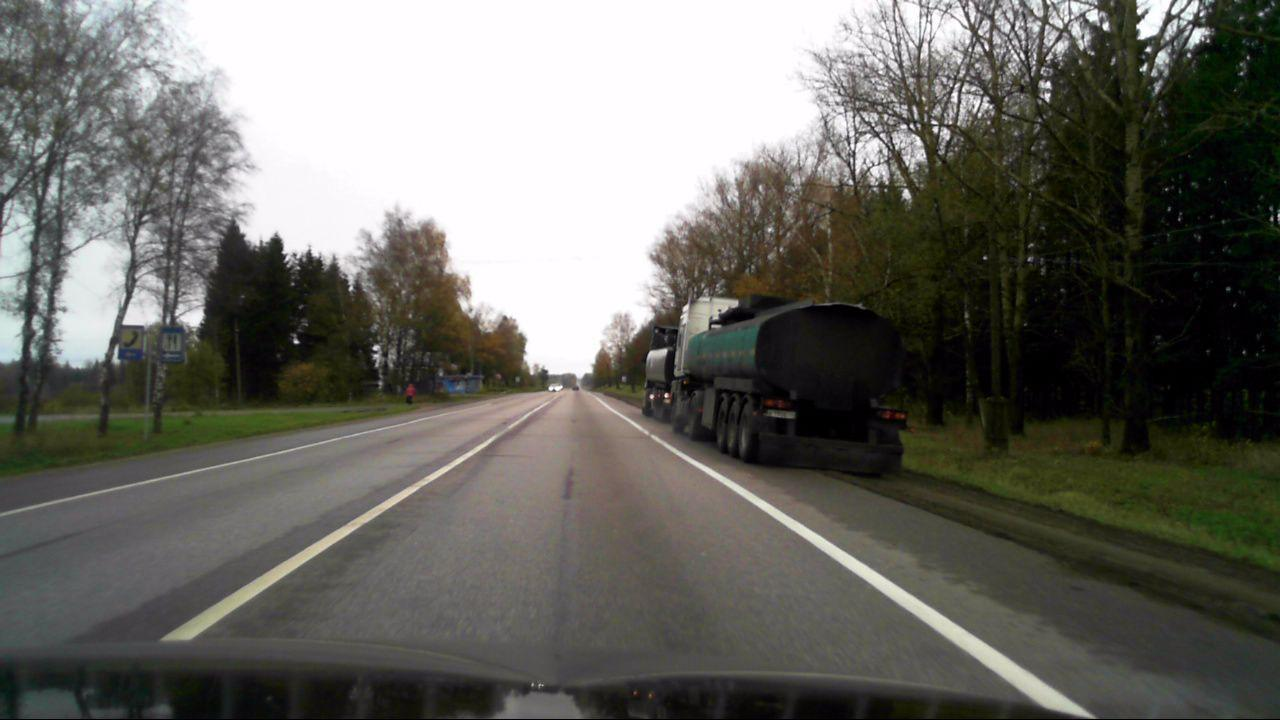7_6: (119, 324, 143, 360)
7_7: (160, 325, 186, 362)
